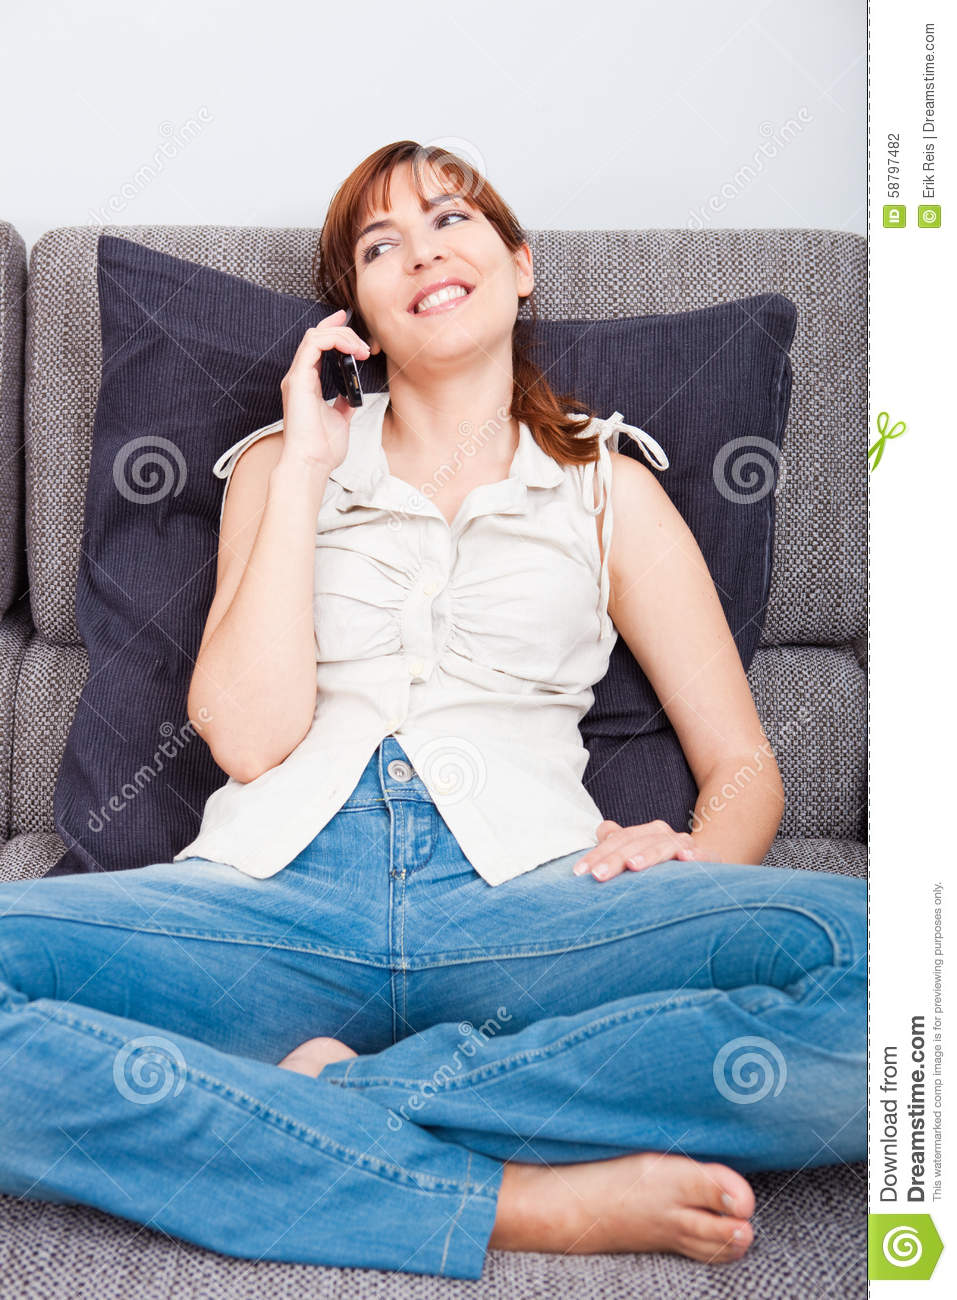phone: (337, 298, 369, 407)
talk: (279, 189, 497, 467)
